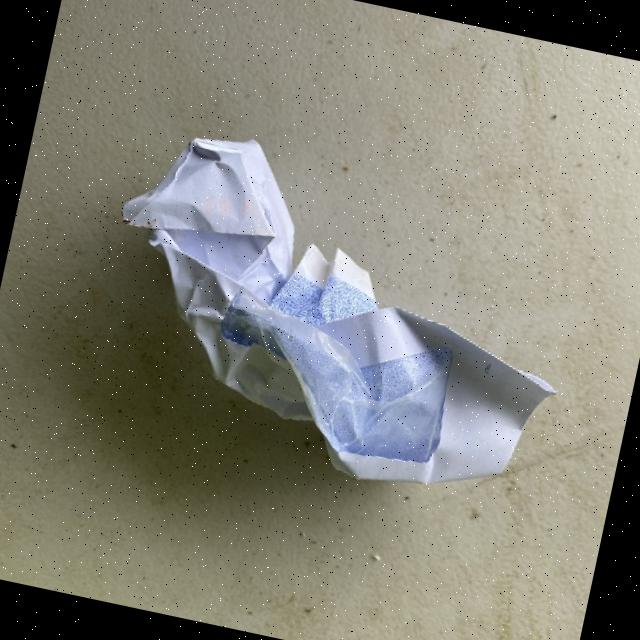paper: (76, 114, 594, 516)
